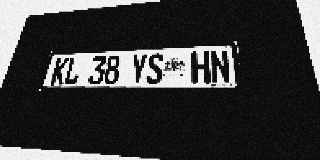3: (88, 56, 107, 85)
8: (103, 55, 122, 85)
H: (191, 51, 210, 84)
K: (50, 58, 69, 85)
L: (63, 57, 83, 85)
N: (210, 50, 231, 83)
S: (145, 53, 164, 84)
Y: (129, 54, 148, 84)
